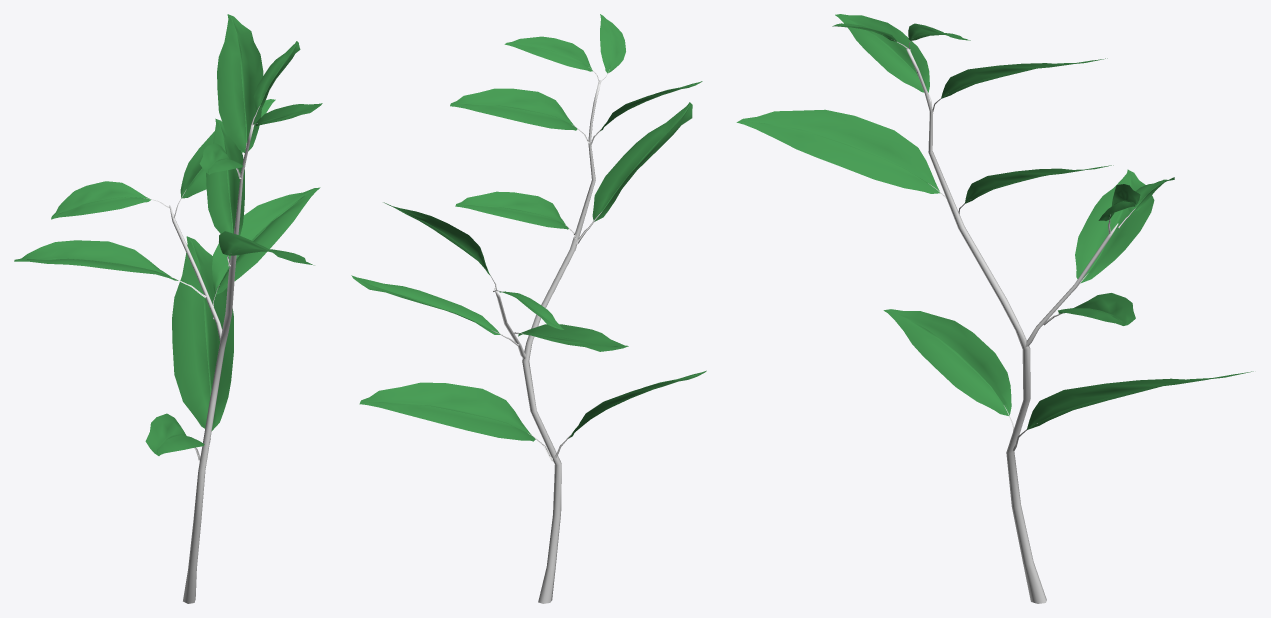
The model's file is Forest young.fbx.
3 views of the same model, side by side, from view 1: azimuth 30°, elevation 25°; view 2: azimuth 150°, elevation 25°; view 3: azimuth 270°, elevation 25° (orthographic). The views are drawn at different scales.
Visible parts, largest first — view 1: Sc Forest young A 01; view 2: Sc Forest young A 01; view 3: Sc Forest young A 01.
Part boxes in pixels (<box>): Sc Forest young A 01: <box>14,14,322,603</box>; Sc Forest young A 01: <box>351,14,706,603</box>; Sc Forest young A 01: <box>736,14,1253,603</box>.
Bounding box in the file's own units: 0.3284 × 0.5823 × 0.457.
